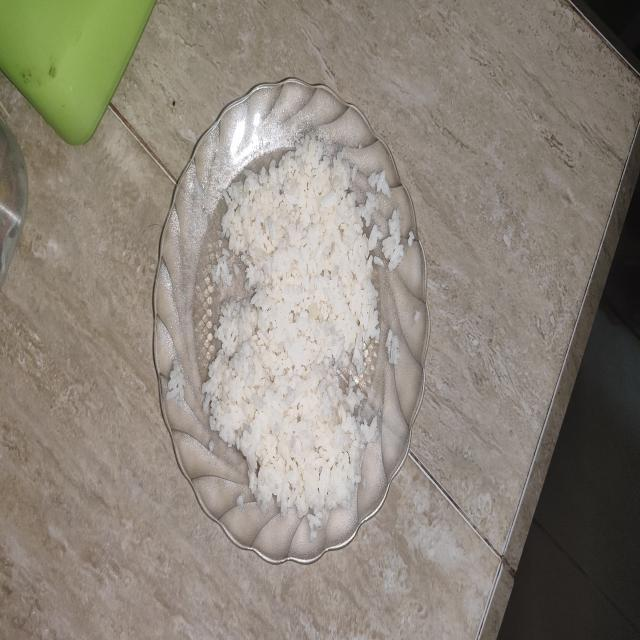nasi_putih: (202, 136, 380, 527)
